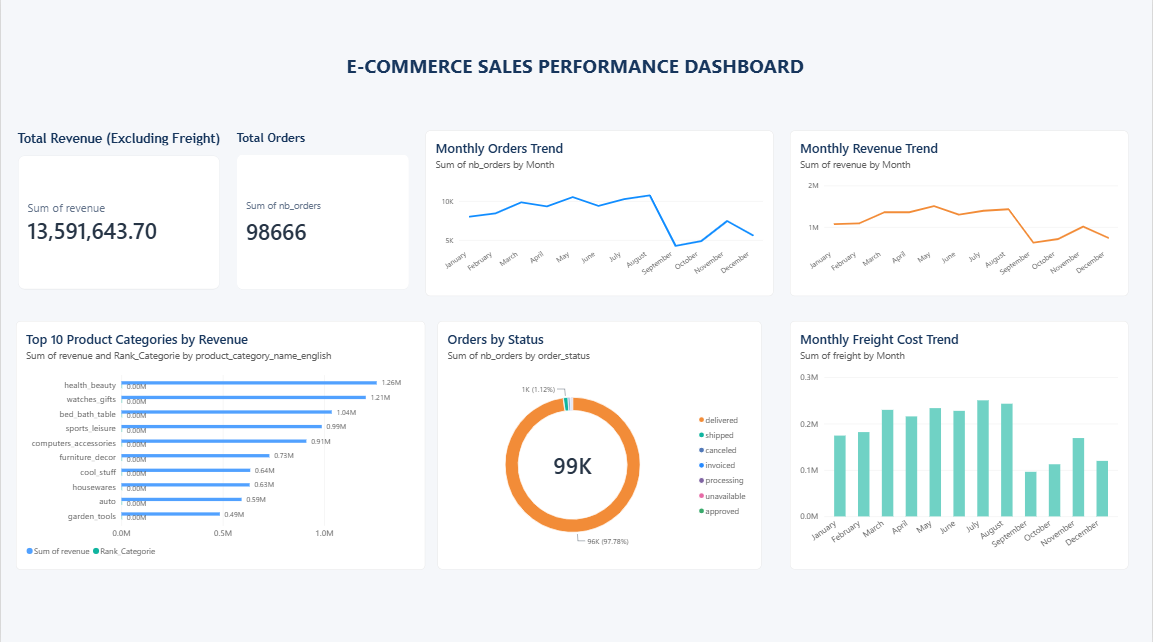

The dashboard page shown, as its layout file describes it:
{"tool":"powerbi","page":{"name":"Page 1","canvas":[1920,1080],"ordinal":0},"visuals":[{"type":"cardVisual","title":"Total Revenue (Excluding Freight)","fields":{"Data":["Sum(analytics agg_monthly_sales.revenue)"]},"box":[28,222,338,266],"z":0},{"type":"lineChart","title":"Monthly Orders Trend","fields":{"Category":["analytics agg_monthly_sales.order_month.Variation.Date Hierarchy.Month"],"Y":["Sum(analytics agg_monthly_sales.nb_orders)"]},"box":[708,222,580,276],"z":1000},{"type":"clusteredBarChart","title":"Top 10 Product Categories by Revenue","fields":{"Category":["analytics agg_top_products.product_category_name_english"],"Y":["Sum(analytics agg_top_products.revenue)","analytics agg_top_products.Rank_Product"]},"box":[25.6,540,682.2,414.4],"z":2000},{"type":"donutChart","title":"Orders by Status","fields":{"Category":["analytics agg_orders_by_status.order_status"],"Y":["Sum(analytics agg_orders_by_status.nb_orders)"]},"box":[728,540,540,414],"z":3000},{"type":"cardVisual","title":"Total Orders","fields":{"Data":["Sum(analytics agg_monthly_sales.nb_orders)"]},"box":[392,222,288,266],"z":4000},{"type":"textbox","box":[436,92,1044,190],"z":5000},{"type":"lineChart","title":"Monthly Revenue Trend","fields":{"Category":["analytics agg_monthly_sales.order_month.Variation.Date Hierarchy.Month"],"Y":["Sum(analytics agg_monthly_sales.revenue)"]},"box":[1316,222,564,276],"z":6000},{"type":"lineClusteredColumnComboChart","title":"Monthly Freight Cost Trend","fields":{"Category":["analytics agg_monthly_sales.order_month.Variation.Date Hierarchy.Month"],"Y":["Sum(analytics agg_monthly_sales.freight)"]},"box":[1316,540,564,414],"z":7000}]}

Visuals, with their boxes in screenshot pixels (x1, y1, x2, y2), scaled from the page's 1920x1080 canvas onto the 1153x642 screenshot:
"Total Revenue (Excluding Freight)" cardVisual: bbox(17, 132, 220, 290)
"Monthly Orders Trend" lineChart: bbox(425, 132, 773, 296)
"Top 10 Product Categories by Revenue" clusteredBarChart: bbox(15, 321, 425, 567)
"Orders by Status" donutChart: bbox(437, 321, 761, 567)
"Total Orders" cardVisual: bbox(235, 132, 408, 290)
textbox: bbox(262, 55, 889, 168)
"Monthly Revenue Trend" lineChart: bbox(790, 132, 1129, 296)
"Monthly Freight Cost Trend" lineClusteredColumnComboChart: bbox(790, 321, 1129, 567)
